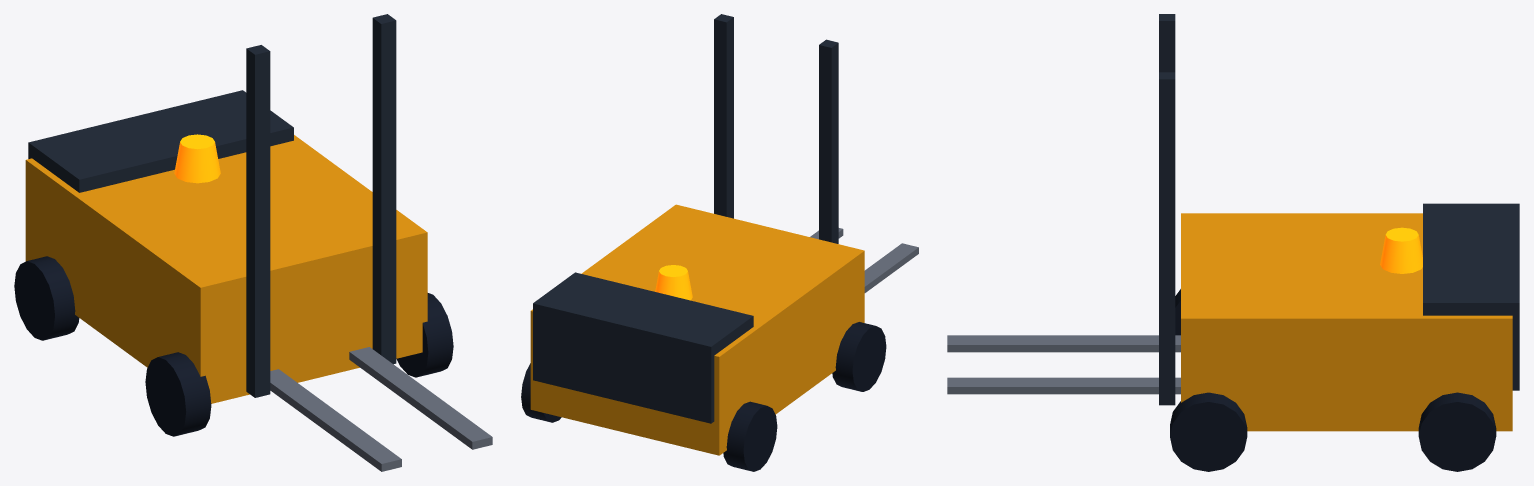
Rendered from agv_forklift.glb.
3 renders of one model, left to right at view 1: azimuth 30°, elevation 25°; view 2: azimuth 150°, elevation 25°; view 3: azimuth 270°, elevation 25°, orthographic. The views are drawn at different scales.
Parts seen in each view (by area): view 1: AgvForklift, SafetyBeacon; view 2: AgvForklift, SafetyBeacon; view 3: AgvForklift, SafetyBeacon.
Boxes of the visible parts, left/top/right/bottom form: AgvForklift: left=14, top=14, right=492, bottom=471; SafetyBeacon: left=174, top=134, right=220, bottom=183; AgvForklift: left=521, top=14, right=918, bottom=471; SafetyBeacon: left=655, top=265, right=692, bottom=300; AgvForklift: left=947, top=14, right=1519, bottom=471; SafetyBeacon: left=1380, top=227, right=1422, bottom=273.
Bounding box in the file's own units: 1.06 × 1.45 × 2.07.
